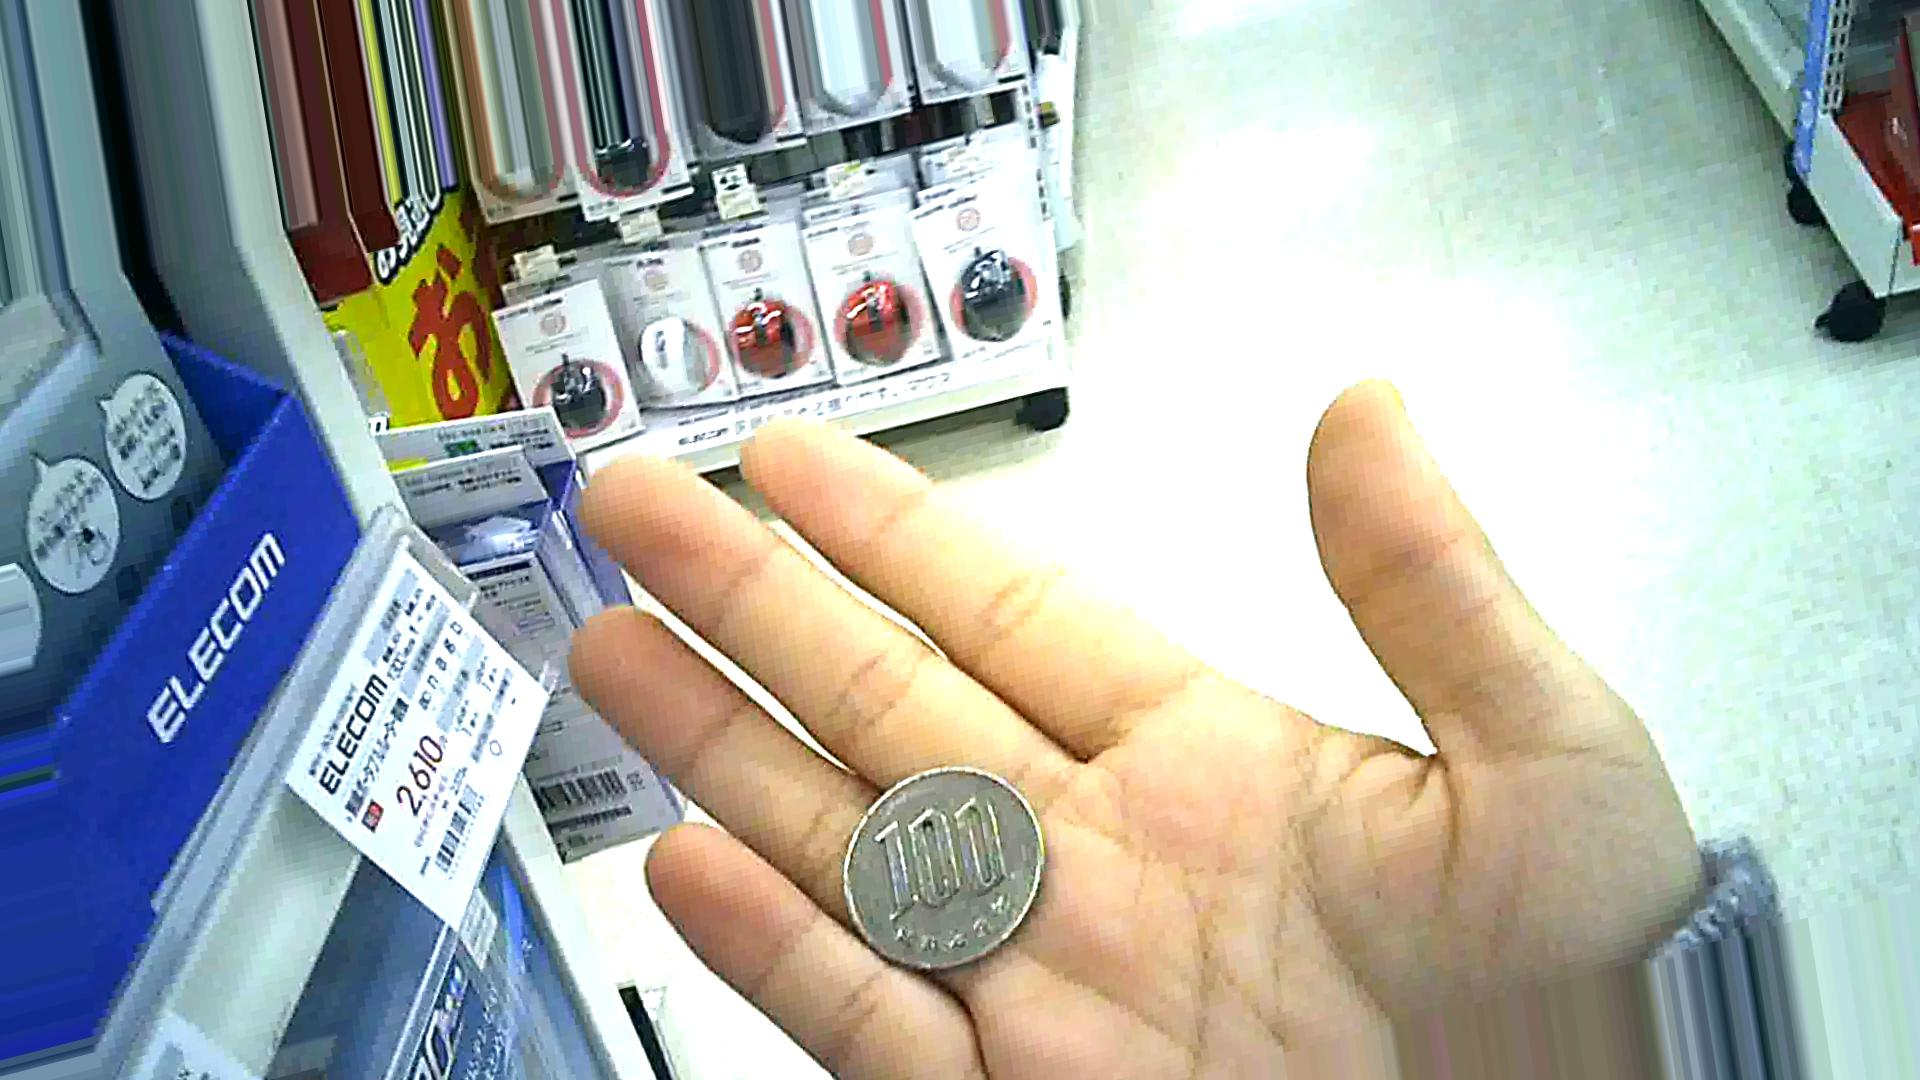100 Yen: (837, 757, 1056, 978)
